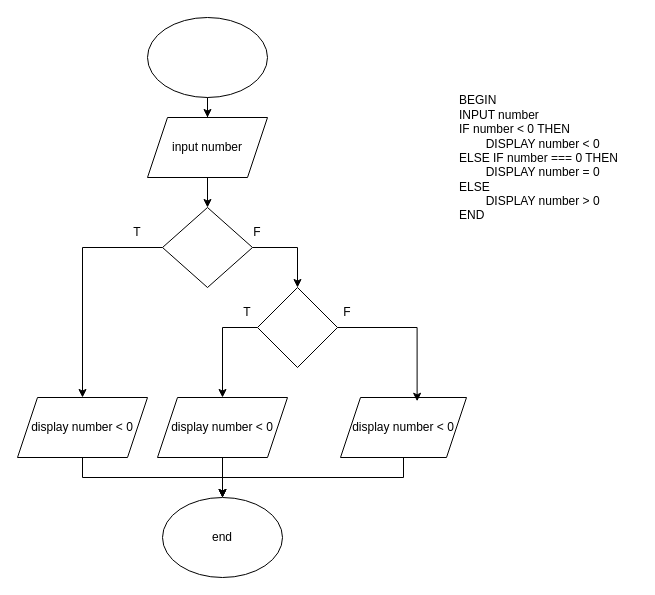
Image size: 655x595. Some labels were removed from this diagram. Each missing label, with the centre of its shape:
begin: the point at 207,57
number < 0: the point at 207,247
number === 0: the point at 297,327
